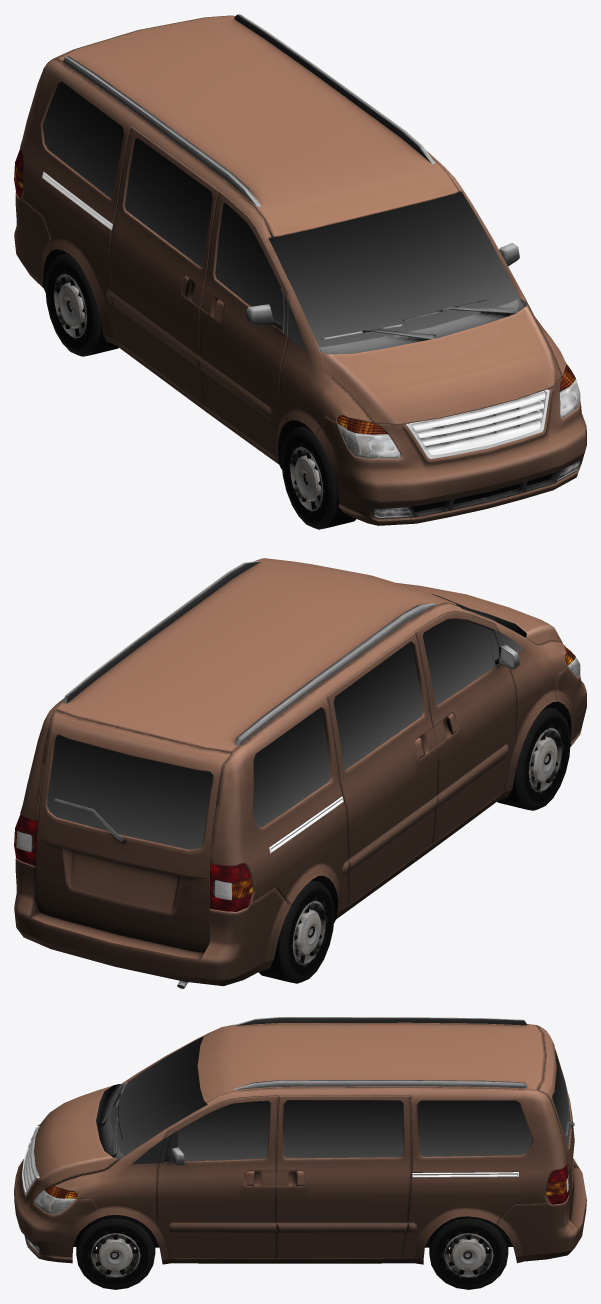
Rendered from SM_Car_04.fbx.
3 views of the same model, one above another, from view 1: azimuth 30°, elevation 25°; view 2: azimuth 150°, elevation 25°; view 3: azimuth 270°, elevation 25° (orthographic). The views are drawn at different scales.
Visible parts, largest first — view 1: SM_Car_04_LOD0; view 2: SM_Car_04_LOD0; view 3: SM_Car_04_LOD0.
Boxes of the visible parts, box(x1,y1,x2,y2) form: SM_Car_04_LOD0: box(14, 14, 586, 529); SM_Car_04_LOD0: box(14, 558, 586, 988); SM_Car_04_LOD0: box(14, 1017, 586, 1289).
Size of what is drawn, in the model's own units: 2.1 by 1.98 by 5.19.
